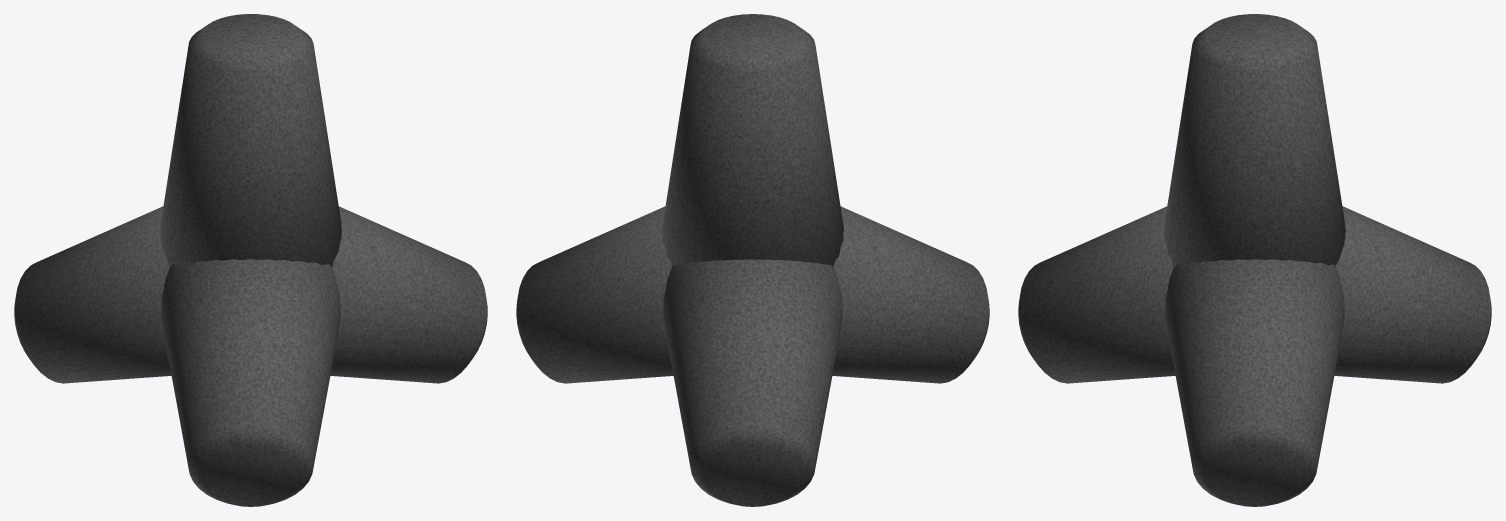
Rendered from tripod.glb.
3 renders of one model, left to right at view 1: azimuth 30°, elevation 25°; view 2: azimuth 150°, elevation 25°; view 3: azimuth 270°, elevation 25°, orthographic.
Parts seen in each view (by area): view 1: Cylinder.004; view 2: Cylinder.004; view 3: Cylinder.004.
Boxes of the visible parts, x1,y1,x2,y2 form: Cylinder.004: (14,14,487,506); Cylinder.004: (516,14,989,506); Cylinder.004: (1018,14,1491,506).
Size of the model in its own units: 2.1 by 2.09 by 2.32.
1 material, 1 textured.
